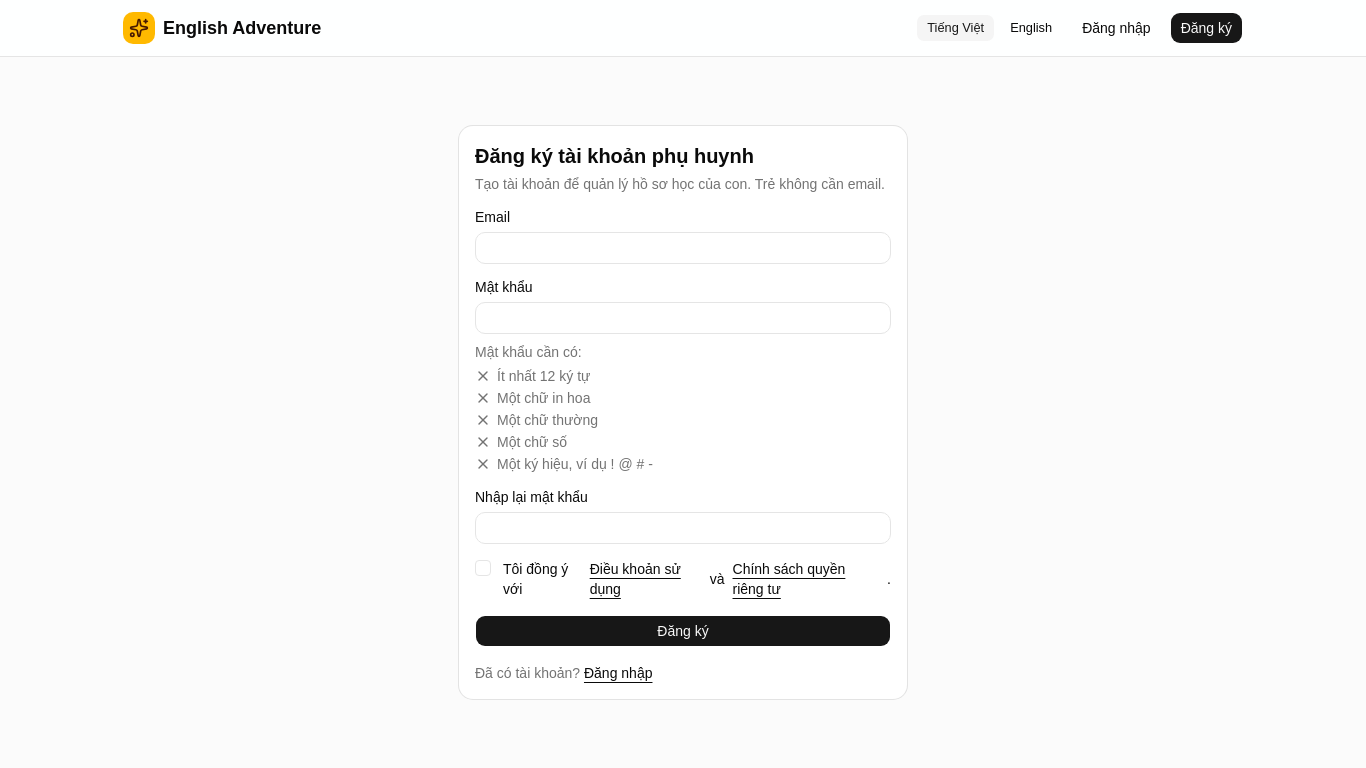
Test: registration › registers with consent and the interface language, then asks to check the inbox
In the field labelled "Email": [683, 248] box [475,232,891,264], type " new.parent@example.test "
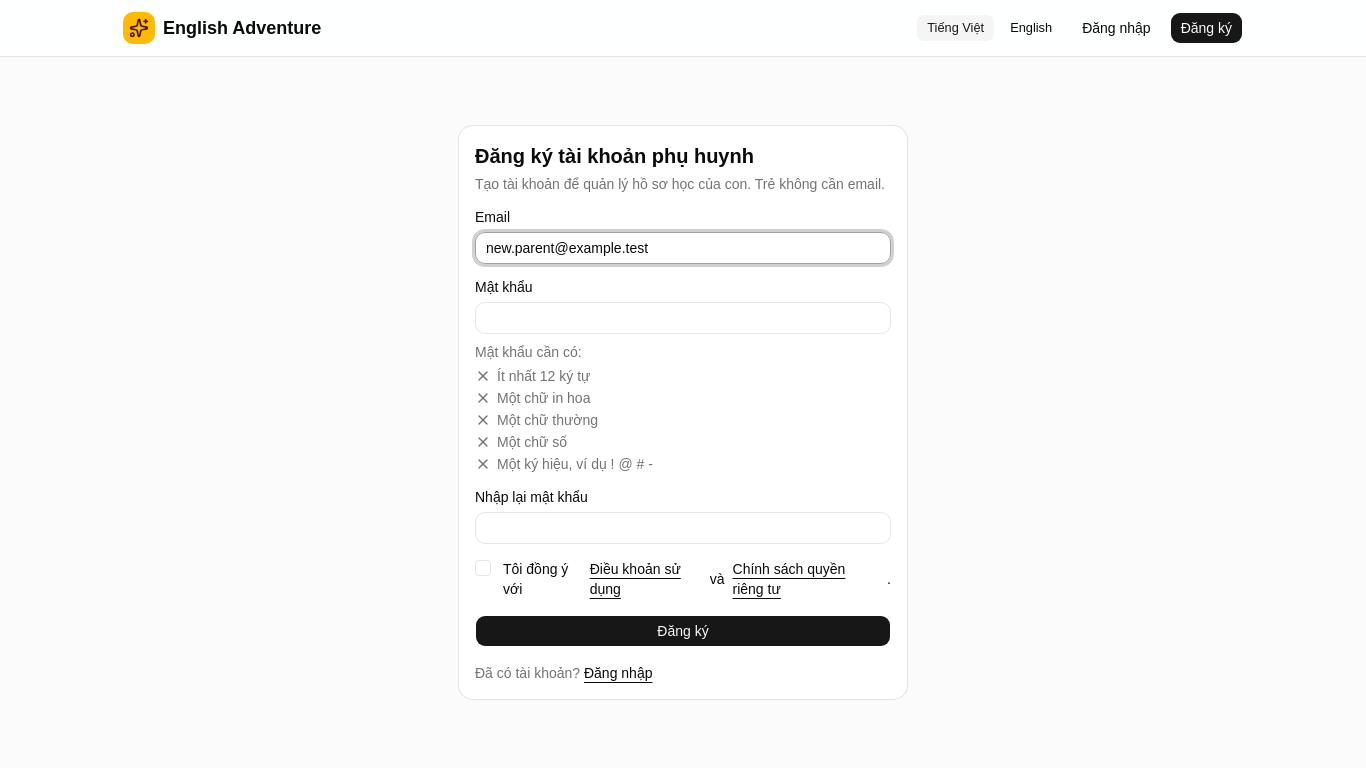
In the password field labelled "Mật khẩu": [683, 318] box [475,302,891,334], type "Correct-horse-1"
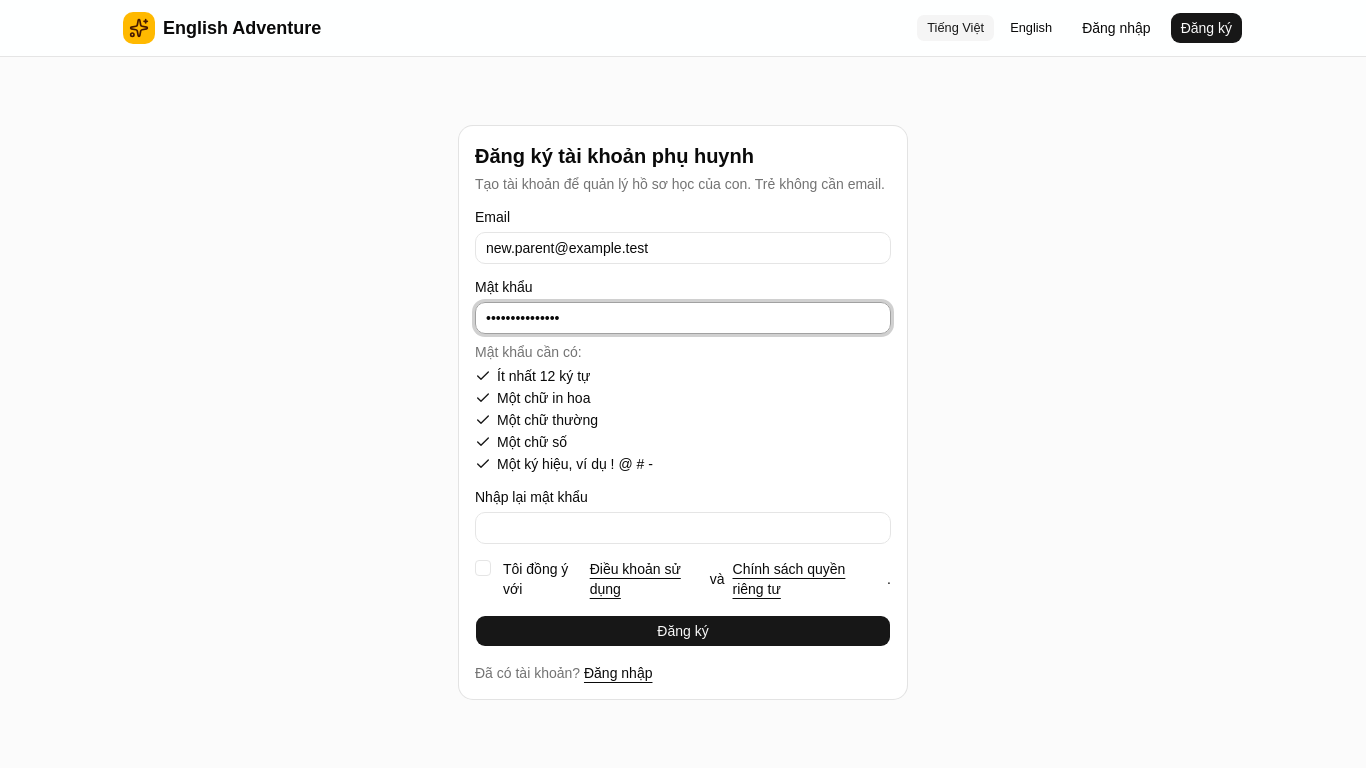
In the password field labelled "Nhập lại mật khẩu": [683, 528] box [475,512,891,544], type "Correct-horse-1"
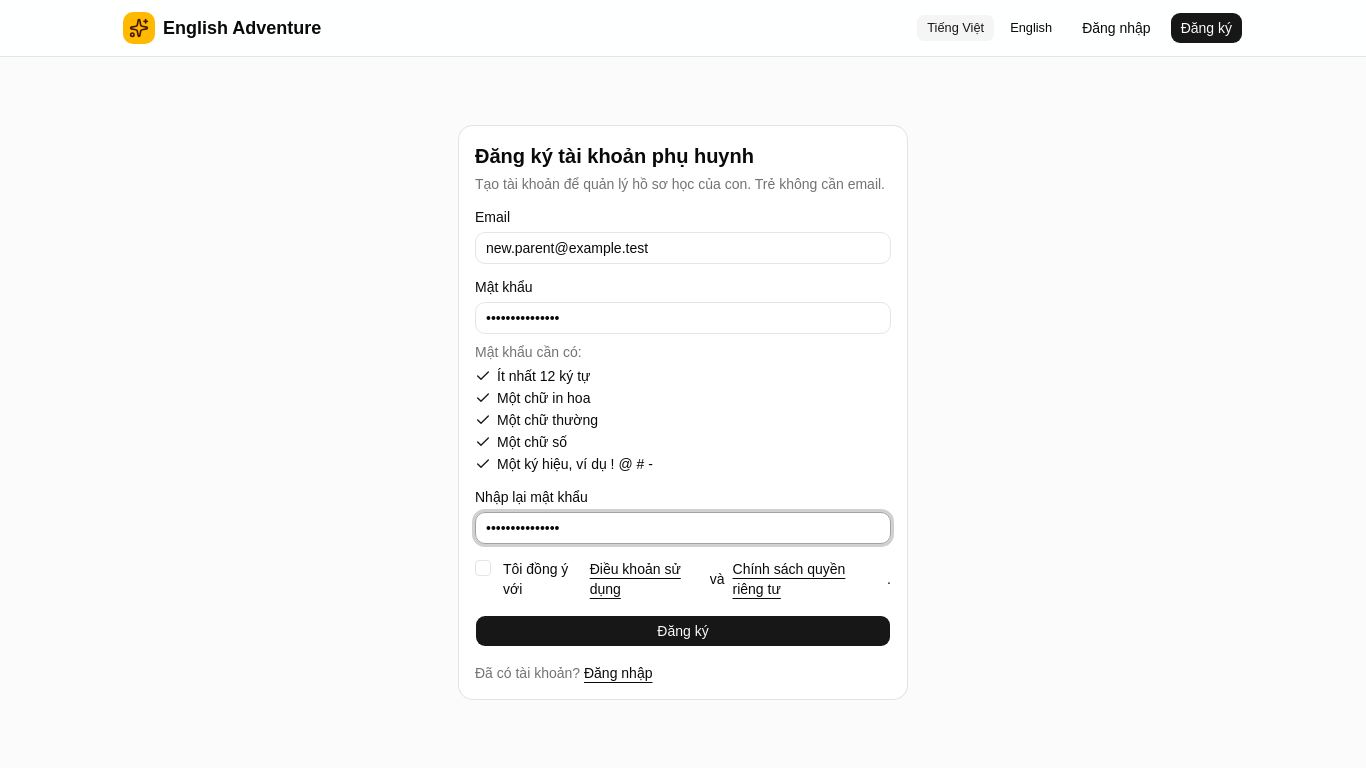
Click the checkbox named "Tôi đồng ý": [483, 568] box [475,560,491,576]
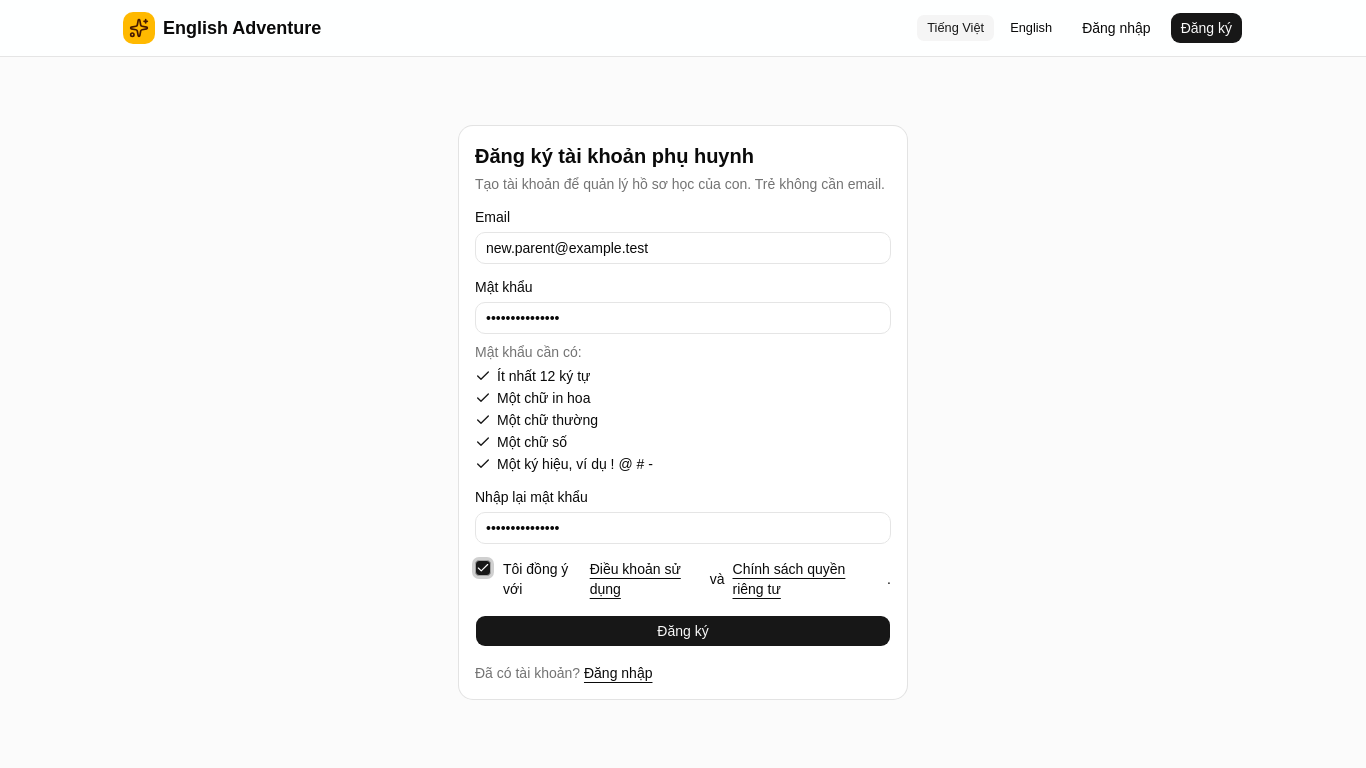
Click the button "Đăng ký": [683, 631] box [475,615,891,647]
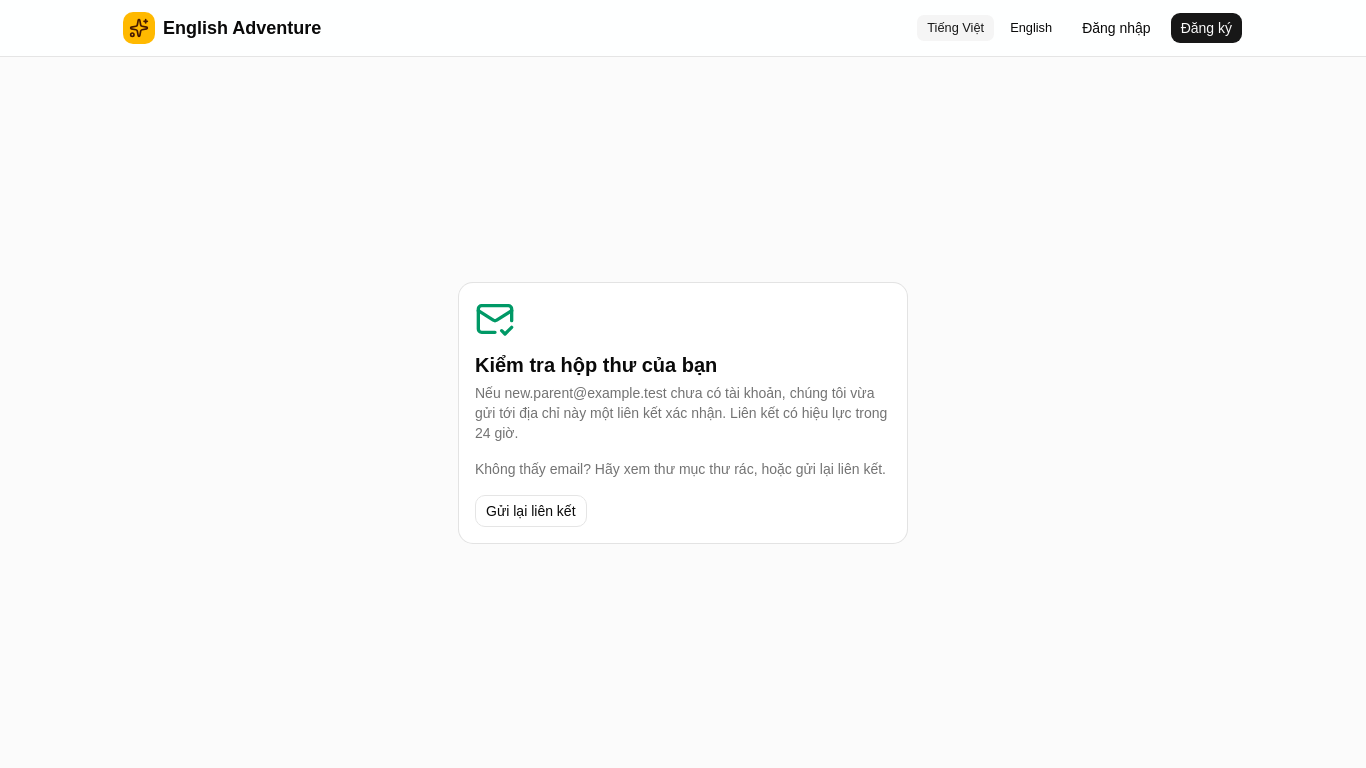
Expected: the heading "Kiểm tra hộp thư của bạn" is shown, [475,354,717,376]
Expected: the text "new.parent@example.test" is shown, [475,384,887,440]
